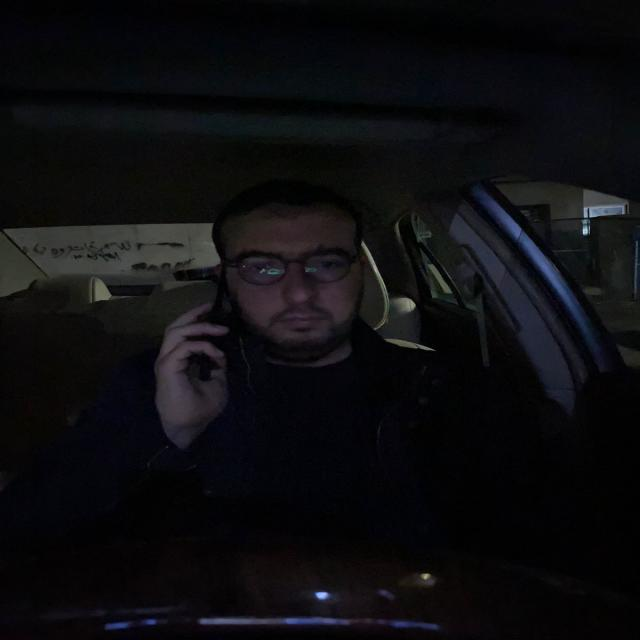mobile: (182, 275, 238, 379)
person: (203, 187, 368, 352)
